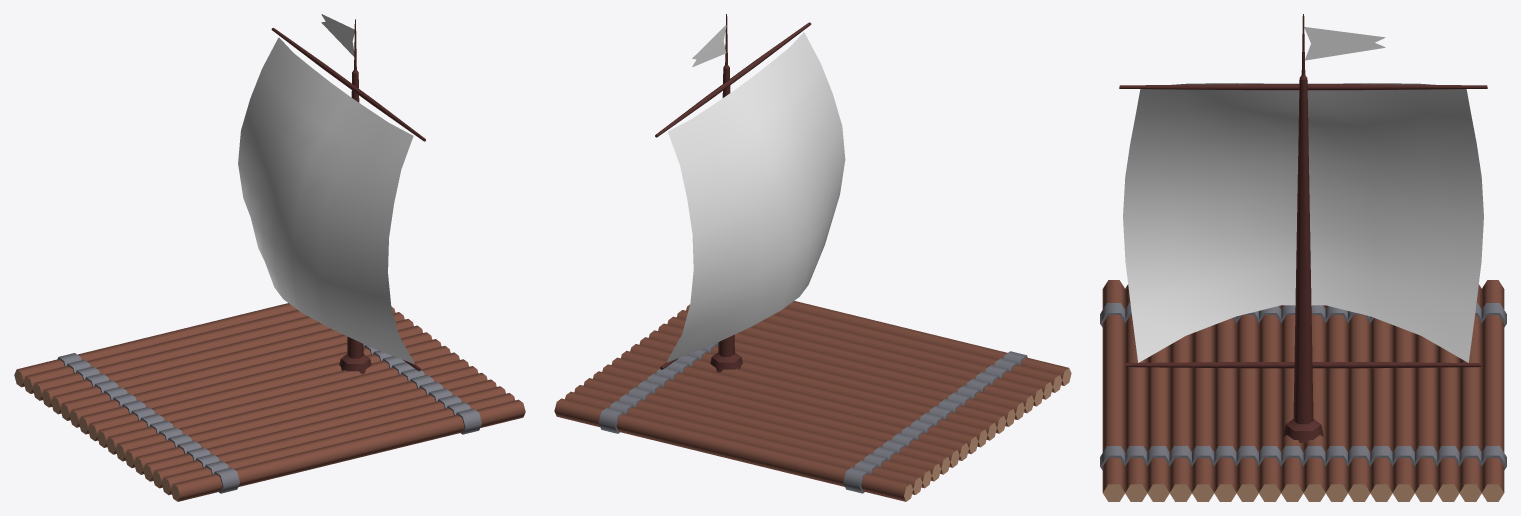
The model's file is raft1.fbx.
3 views of the same model, side by side, from view 1: azimuth 30°, elevation 25°; view 2: azimuth 150°, elevation 25°; view 3: azimuth 270°, elevation 25° (orthographic). The views are drawn at different scales.
Visible parts, largest first — view 1: raft1; view 2: raft1; view 3: raft1.
Part boxes in pixels (x1,y1,x2,y2): raft1: (14,14,525,501); raft1: (554,14,1071,501); raft1: (1100,14,1506,501).
Size of the model in its own units: 6.59 by 6.6 by 5.55.
2 materials, 1 textured.
